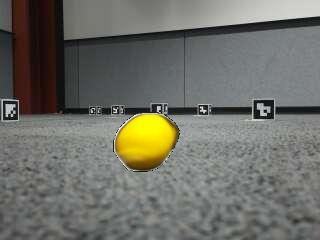lemon: (115, 115, 178, 171)
